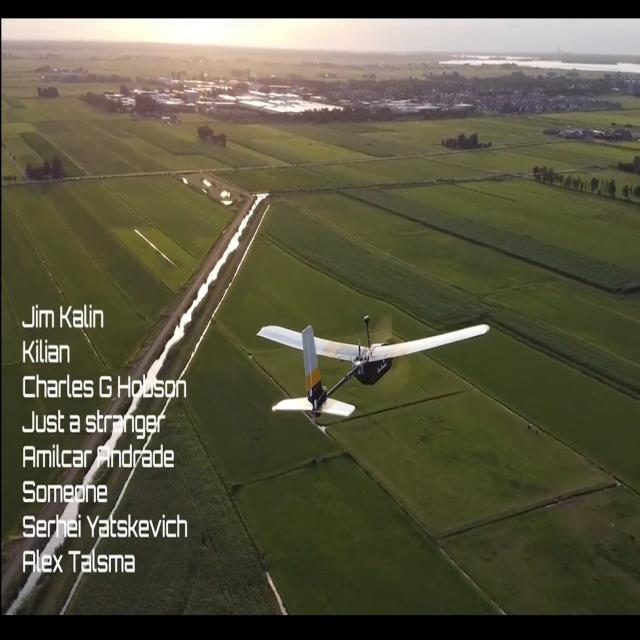iha: (258, 307, 490, 435)
